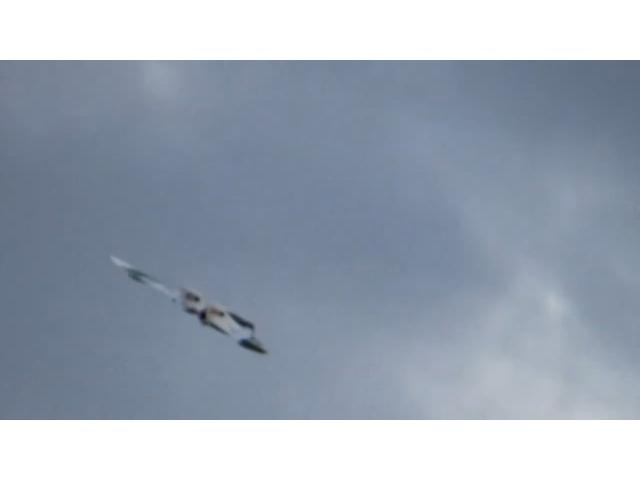Anti-Drone: (106, 253, 270, 359)
